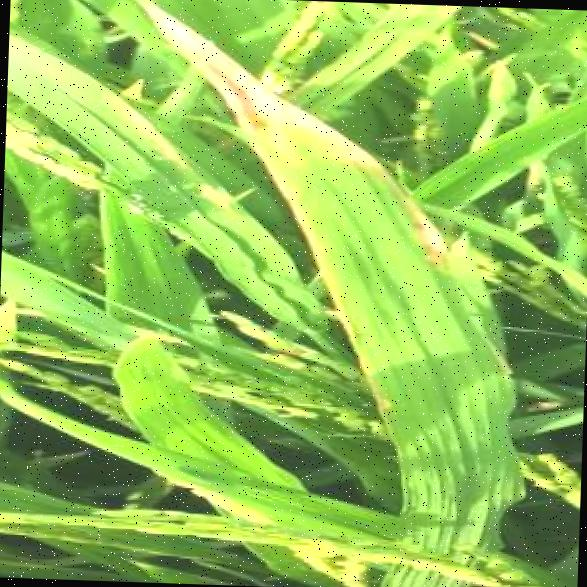Bacteria_Leaf_Blight: (253, 26, 453, 498)
